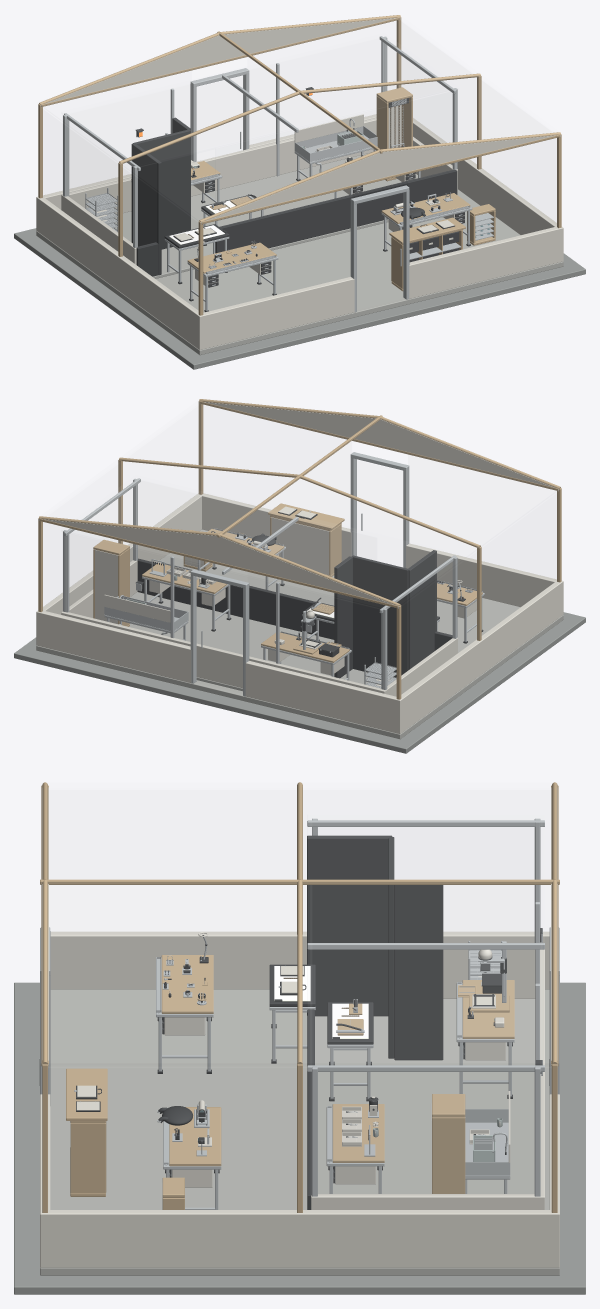
The model's file is camera-repair-and-darkroom-laboratory-fu-d2abe6ba-starter-scene__31818.glb.
The picture shows the model from 3 angles, top to bottom: view 1: azimuth 30°, elevation 25°; view 2: azimuth 150°, elevation 25°; view 3: azimuth 270°, elevation 25°; orthographic projection. The views are drawn at different scales.
Visible parts, largest first — view 1: 001-roofed-camera-service-shop/1, 001-roofed-camera-service-shop/0, 002-light-trap-darkroom-enclosure/4, 001-roofed-camera-service-shop/3, 000-photography-workshop-floor-base/0, 002-light-trap-darkroom-enclosure/1, 002-light-trap-darkroom-enclosure/0, 002-light-trap-darkroom-enclosure/3, 001-roofed-camera-service-shop/4, 041-darkroom-wet-sink/0, 025-customer-repair-collection-cabinet/0, 058-film-drying-cabinet/0 (+10 smaller); view 2: 001-roofed-camera-service-shop/1, 002-light-trap-darkroom-enclosure/4, 001-roofed-camera-service-shop/3, 000-photography-workshop-floor-base/0, 001-roofed-camera-service-shop/0, 002-light-trap-darkroom-enclosure/1, 002-light-trap-darkroom-enclosure/0, 002-light-trap-darkroom-enclosure/3, 001-roofed-camera-service-shop/4, 025-customer-repair-collection-cabinet/1, 025-customer-repair-collection-cabinet/0, 058-film-drying-cabinet/1 (+9 smaller); view 3: 001-roofed-camera-service-shop/0, 001-roofed-camera-service-shop/1, 000-photography-workshop-floor-base/0, 002-light-trap-darkroom-enclosure/4, 002-light-trap-darkroom-enclosure/0, 001-roofed-camera-service-shop/3, 002-light-trap-darkroom-enclosure/3, 002-light-trap-darkroom-enclosure/1, 025-customer-repair-collection-cabinet/0, 058-film-drying-cabinet/0, 003-repair-bench-with-parts-gutter/2, 041-darkroom-wet-sink/0 (+17 smaller).
Part boxes in pixels (<box>): 001-roofed-camera-service-shop/1: <box>36,17,563,349</box>; 001-roofed-camera-service-shop/0: <box>36,189,563,355</box>; 002-light-trap-darkroom-enclosure/4: <box>131,117,457,276</box>; 001-roofed-camera-service-shop/3: <box>38,15,561,315</box>; 000-photography-workshop-floor-base/0: <box>14,228,585,369</box>; 002-light-trap-darkroom-enclosure/1: <box>61,118,457,264</box>; 002-light-trap-darkroom-enclosure/0: <box>114,153,417,278</box>; 002-light-trap-darkroom-enclosure/3: <box>63,36,457,247</box>; 001-roofed-camera-service-shop/4: <box>190,68,409,312</box>; 041-darkroom-wet-sink/0: <box>294,119,377,179</box>; 025-customer-repair-collection-cabinet/0: <box>389,217,465,291</box>; 058-film-drying-cabinet/0: <box>376,87,412,181</box>; 001-roofed-camera-service-shop/1: <box>36,401,563,733</box>; 002-light-trap-darkroom-enclosure/4: <box>137,550,452,678</box>; 001-roofed-camera-service-shop/3: <box>38,399,561,699</box>; 000-photography-workshop-floor-base/0: <box>14,612,585,753</box>; 001-roofed-camera-service-shop/0: <box>36,529,563,739</box>; 002-light-trap-darkroom-enclosure/1: <box>61,560,457,696</box>; 002-light-trap-darkroom-enclosure/0: <box>129,592,368,691</box>; 002-light-trap-darkroom-enclosure/3: <box>63,478,457,690</box>; 001-roofed-camera-service-shop/4: <box>190,452,409,696</box>; 025-customer-repair-collection-cabinet/1: <box>271,517,329,575</box>; 025-customer-repair-collection-cabinet/0: <box>268,503,344,576</box>; 058-film-drying-cabinet/1: <box>94,549,118,623</box>; 001-roofed-camera-service-shop/0: <box>40,989,559,1275</box>; 001-roofed-camera-service-shop/1: <box>40,787,559,1267</box>; 000-photography-workshop-floor-base/0: <box>14,982,585,1294</box>; 002-light-trap-darkroom-enclosure/4: <box>307,835,443,1209</box>; 002-light-trap-darkroom-enclosure/0: <box>315,999,535,1193</box>; 001-roofed-camera-service-shop/3: <box>40,782,559,1212</box>; 002-light-trap-darkroom-enclosure/3: <box>307,818,544,1196</box>; 002-light-trap-darkroom-enclosure/1: <box>311,949,544,1209</box>; 025-customer-repair-collection-cabinet/0: <box>66,1068,107,1196</box>; 058-film-drying-cabinet/0: <box>432,1094,465,1193</box>; 003-repair-bench-with-parts-gutter/2: <box>161,955,213,1013</box>; 041-darkroom-wet-sink/0: <box>465,1109,510,1193</box>.
Size of the model in its own units: 9.7 by 3.91 by 7.7.
